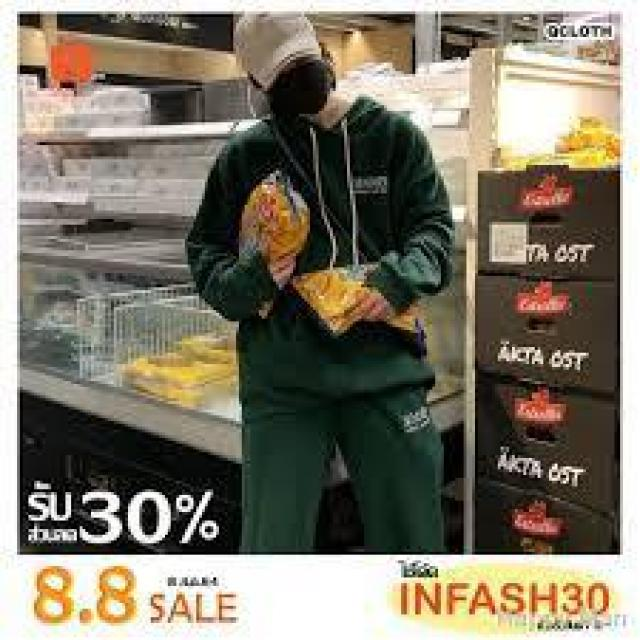pants: (236, 377, 450, 553)
sweater: (184, 92, 456, 394)
